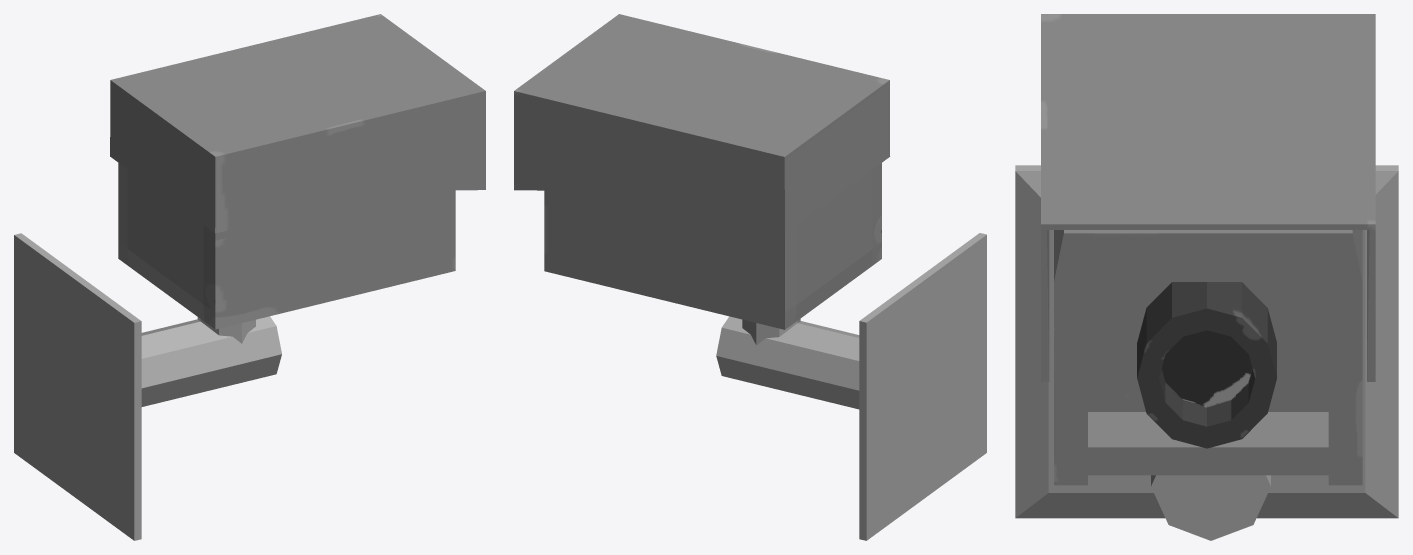
The model's file is Camera de Segurança.fbx.
3 renders of one model, left to right at view 1: azimuth 30°, elevation 25°; view 2: azimuth 150°, elevation 25°; view 3: azimuth 270°, elevation 25°, orthographic. The views are drawn at different scales.
Visible parts, largest first — view 1: Camera, Suporte; view 2: Camera, Suporte; view 3: Camera, Suporte.
Boxes of the visible parts, bbox=[...] form: Camera: bbox=[110, 14, 485, 329]; Suporte: bbox=[14, 233, 281, 540]; Camera: bbox=[514, 14, 890, 329]; Suporte: bbox=[716, 233, 986, 540]; Camera: bbox=[1041, 14, 1375, 485]; Suporte: bbox=[1015, 165, 1398, 540].
Bounding box in the file's own units: 870 × 824 × 504.
